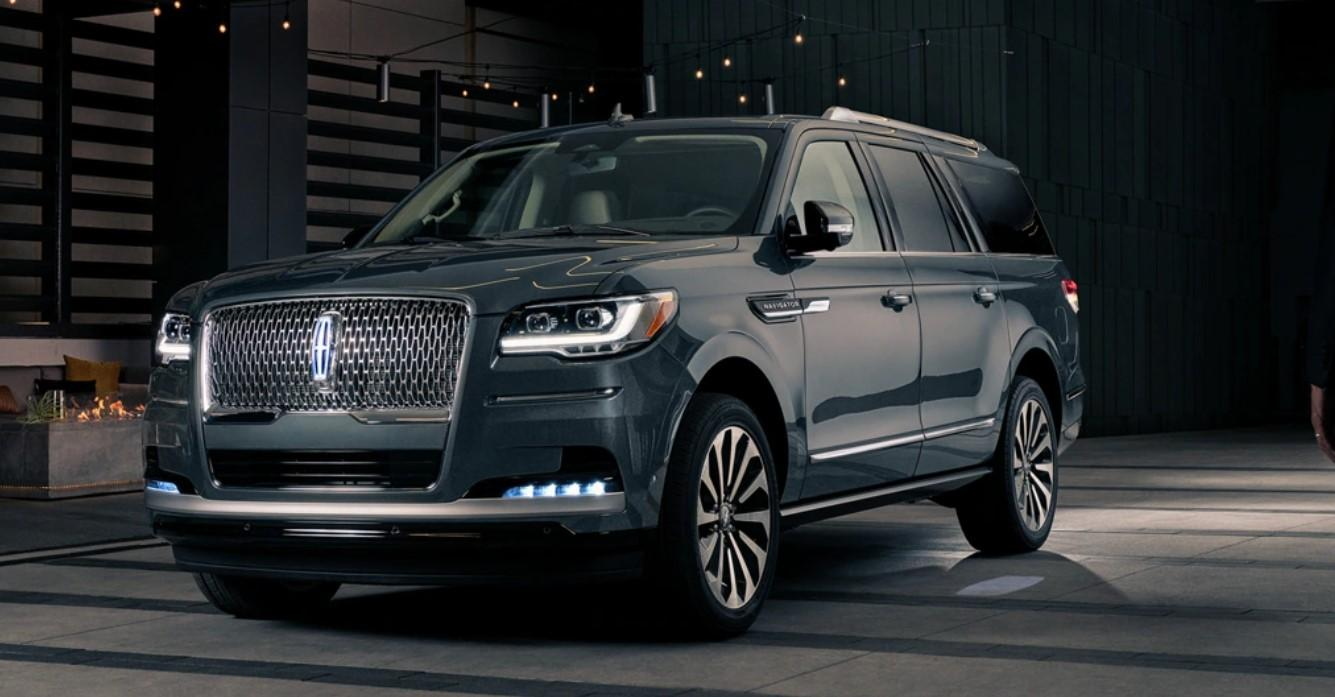lincoln: (301, 302, 351, 400)
